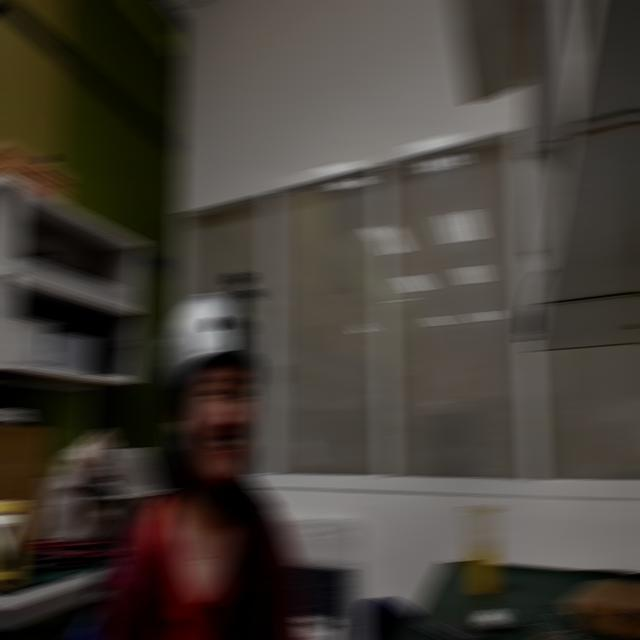With Helmet: (140, 252, 342, 536)
